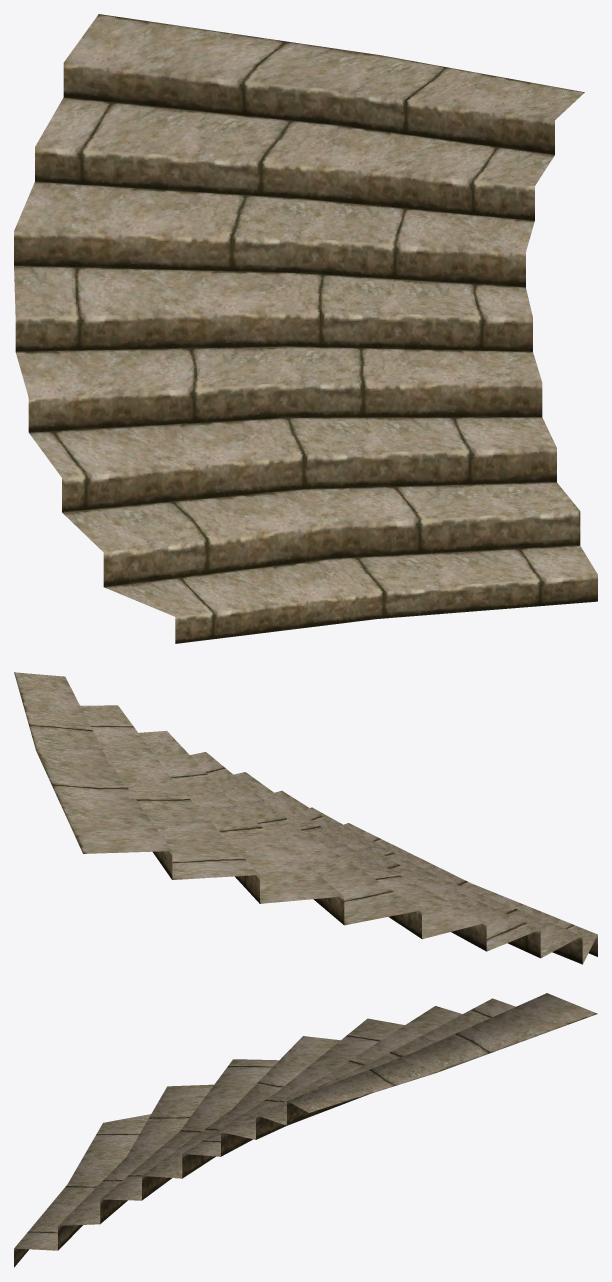
The model's file is EKH_THRONE_PS_TH_EKH_STEP_01.fbx.
3 renders of one model, top to bottom at view 1: azimuth 30°, elevation 25°; view 2: azimuth 150°, elevation 25°; view 3: azimuth 270°, elevation 25°, orthographic. The views are drawn at different scales.
Visible parts, largest first — view 1: EKH_THRONE_PS_TH_EKH_STEP_01; view 2: EKH_THRONE_PS_TH_EKH_STEP_01; view 3: EKH_THRONE_PS_TH_EKH_STEP_01.
Boxes of the visible parts, x1,y1,x2,y2 form: EKH_THRONE_PS_TH_EKH_STEP_01: [14, 14, 597, 643]; EKH_THRONE_PS_TH_EKH_STEP_01: [14, 672, 597, 964]; EKH_THRONE_PS_TH_EKH_STEP_01: [14, 993, 597, 1267].
Size of the model in its own units: 48694 by 24915 by 59301.
1 material, 1 textured.
